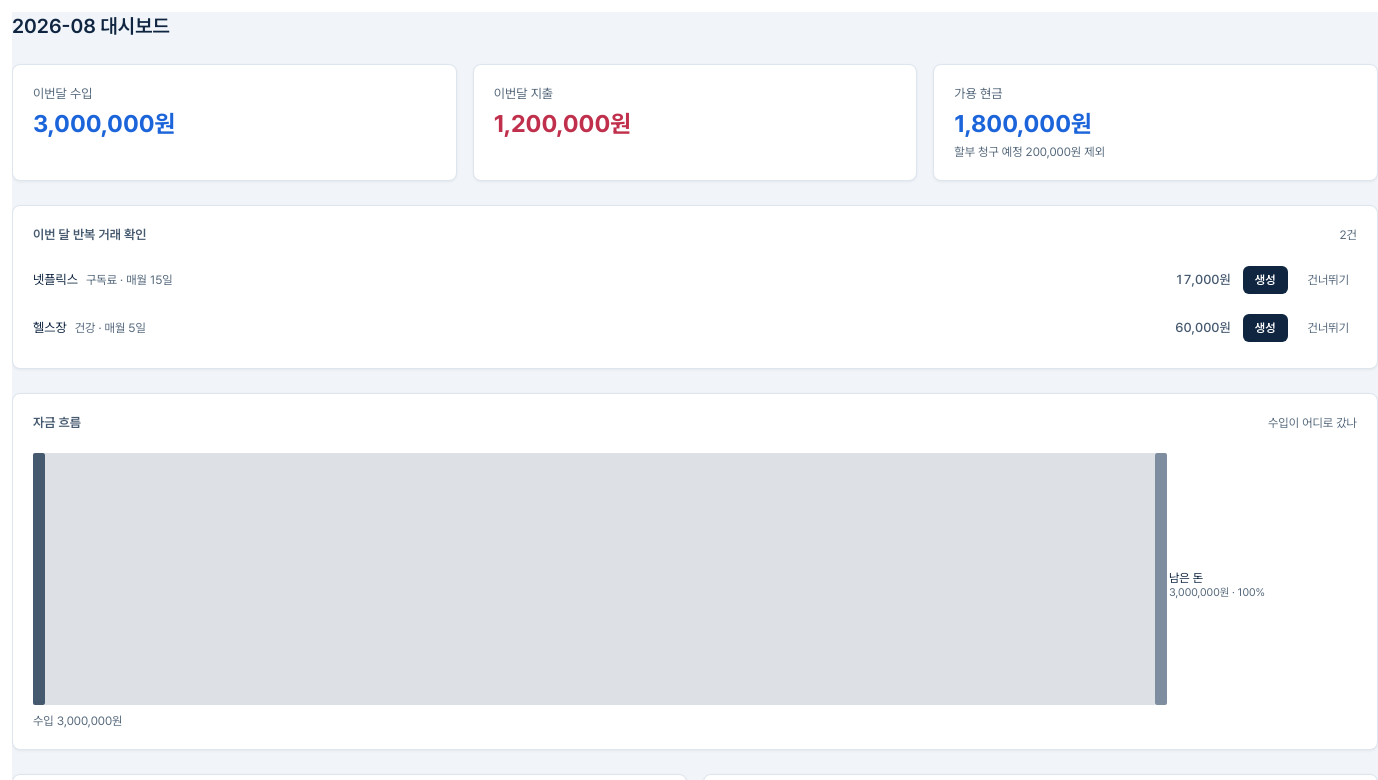
Test: 이번 달 반복 거래 확인 › 처리하는 동안 그 줄의 버튼을 잠근다
Expected: the text "넷플릭스" is shown, [33,272,78,287]
Click the button "생성" next to "17,000원" at {"x": 1265, "y": 280}, box [1243,266,1288,294]
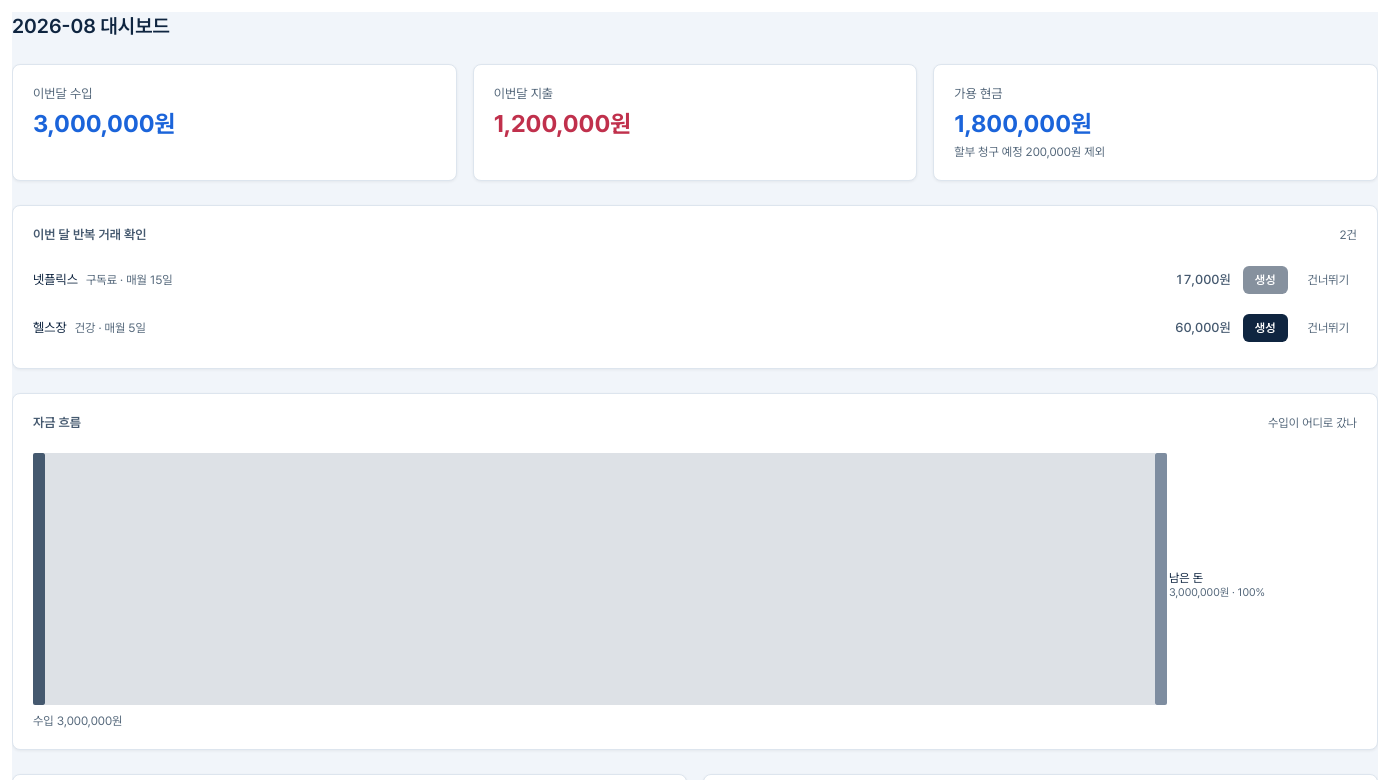
Expected: the button "건너뛰기" in the row of "17,000원" is disabled, [1300,266,1357,294]
Expected: the button "생성" next to "17,000원" is disabled, [1243,266,1288,294]
